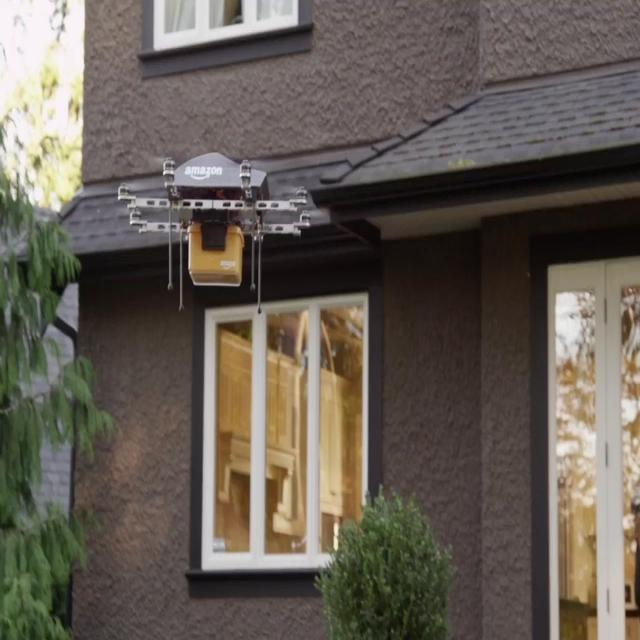drone: (117, 146, 313, 316)
